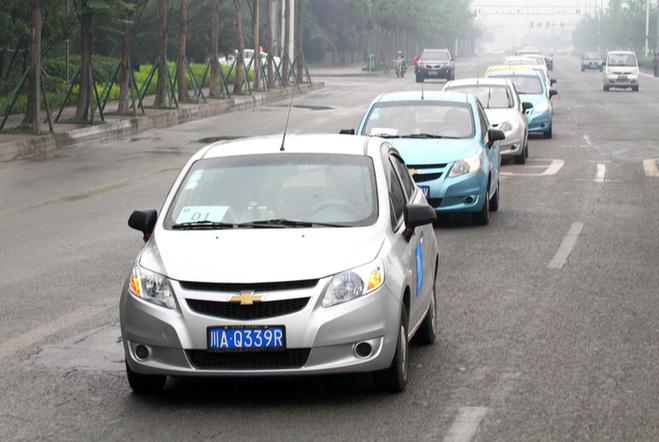car: (115, 130, 439, 396), (352, 88, 491, 227), (444, 67, 531, 164), (592, 36, 641, 106), (407, 40, 452, 84)
